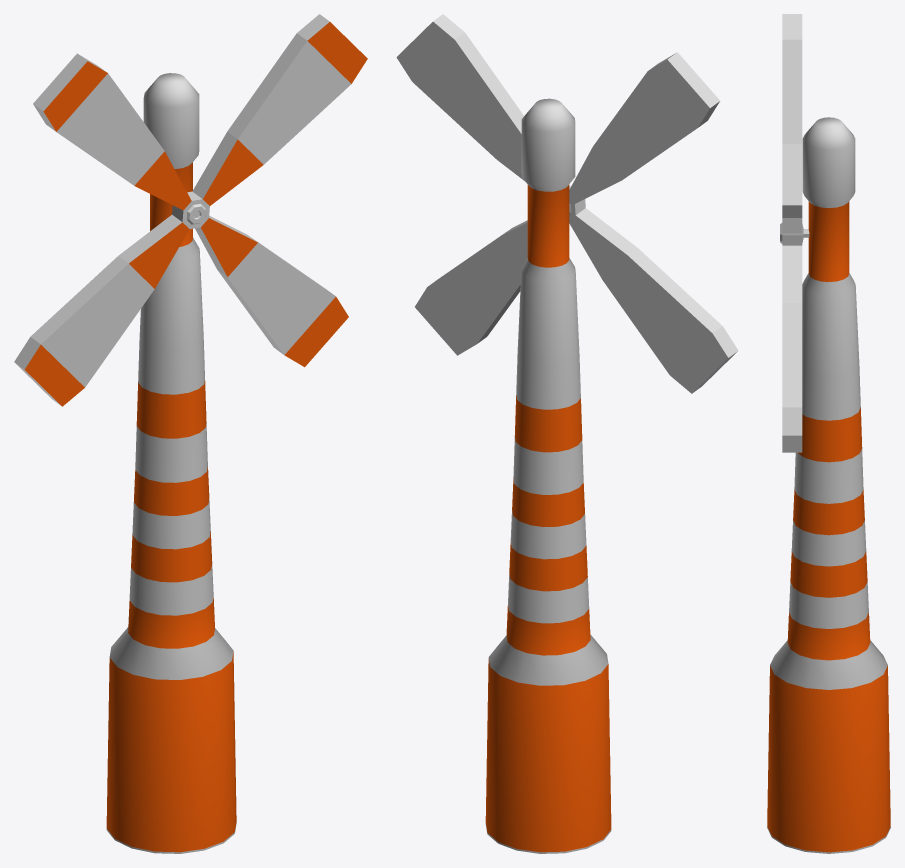
Rendered from Windmill.fbx.
3 views of the same model, side by side, from view 1: azimuth 30°, elevation 25°; view 2: azimuth 150°, elevation 25°; view 3: azimuth 270°, elevation 25° (orthographic). The views are drawn at different scales.
Visible parts, largest first — view 1: Cylinder.036, Circle; view 2: Cylinder.036, Circle; view 3: Cylinder.036, Circle.
Part boxes in pixels (x1,y1,x2,y2): Cylinder.036: (106, 73, 236, 853); Circle: (14, 14, 367, 406); Cylinder.036: (485, 98, 611, 853); Circle: (396, 14, 738, 393); Cylinder.036: (767, 117, 890, 853); Circle: (780, 14, 809, 452).
Bounding box in the file's own units: 2382 × 5371 × 788.
